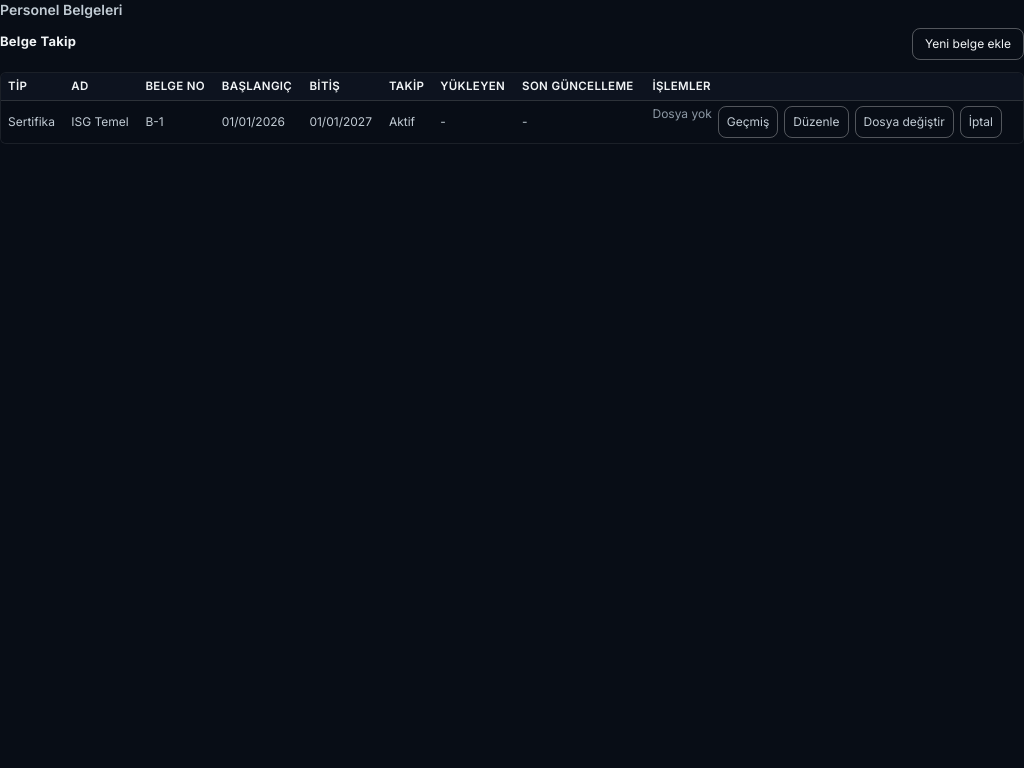
Test case: S93-E3C cancel dialog behavior › belge iptal: boş neden ile confirm disabled kalır
The width and height of the screenshot is (1024, 768).
Click the button with test id "personel-belge-iptal-55": (981, 122) [960,106,1002,138]
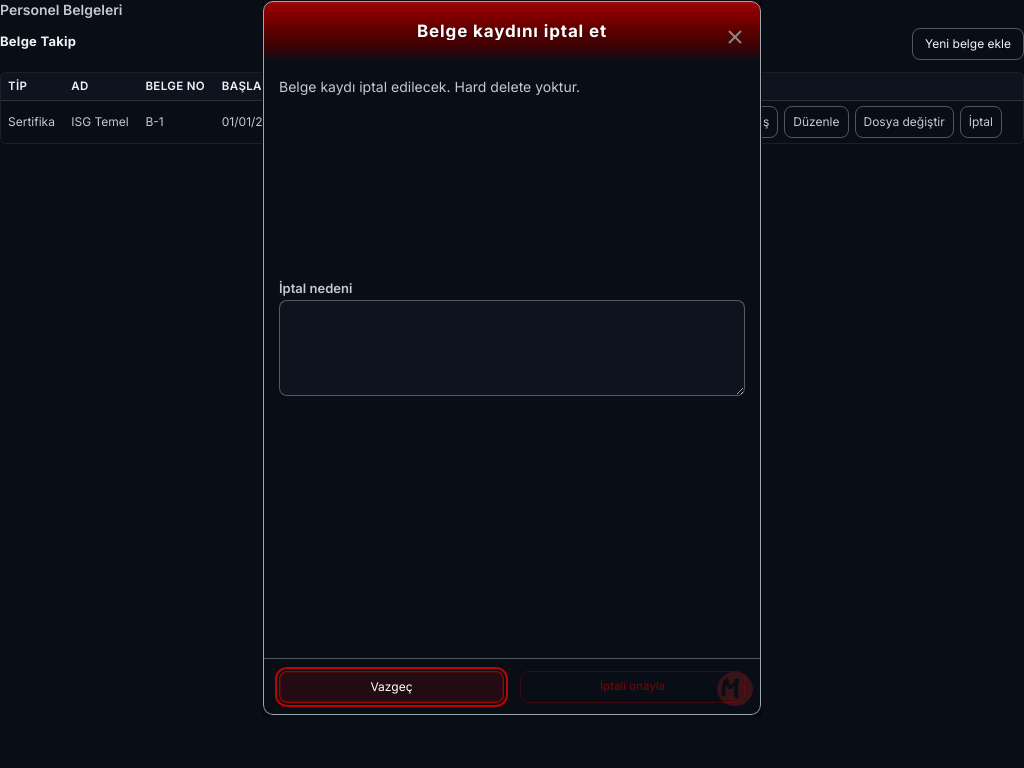
Now the button with test id "personel-belge-action-dialog-confirm" is disabled, box [520,671,745,703]
